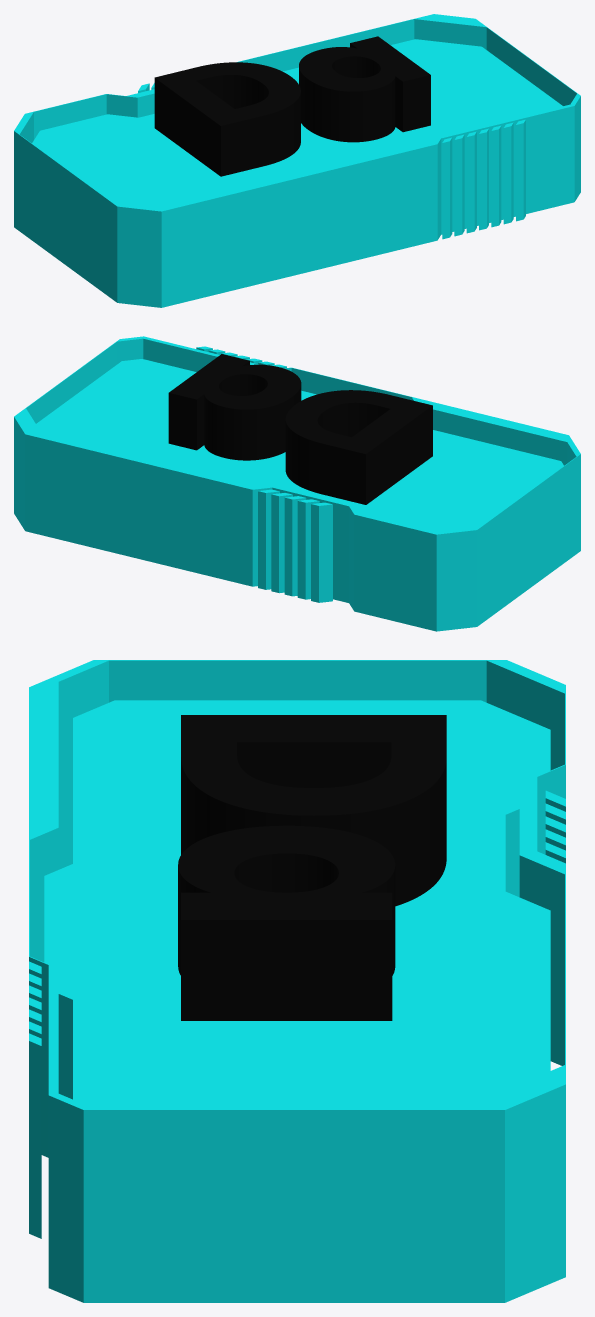
Rendered from 6.HurufKa.glb.
3 views of the same model, one above another, from view 1: azimuth 30°, elevation 25°; view 2: azimuth 150°, elevation 25°; view 3: azimuth 270°, elevation 25° (orthographic). The views are drawn at different scales.
Parts seen in each view (by area): view 1: Curve.104, Curve.098, Curve.112, Curve.113, Curve.106, Curve.109, Curve.105, Curve.107, Curve.110, Curve.108, Curve.111; view 2: Curve.104, Curve.098, Curve.112, Curve.113, Curve.103, Curve.101, Curve.102, Curve.099, Curve.100; view 3: Curve.104, Curve.098, Curve.113, Curve.112, Curve.111.
Part boxes in pixels (x1,y1,x2,y2): Curve.104: [14, 14, 580, 307]; Curve.098: [32, 39, 562, 207]; Curve.112: [154, 62, 300, 176]; Curve.113: [299, 36, 430, 142]; Curve.106: [454, 134, 464, 236]; Curve.109: [491, 125, 501, 227]; Curve.105: [442, 137, 452, 239]; Curve.107: [466, 131, 476, 233]; Curve.110: [503, 122, 513, 224]; Curve.108: [479, 128, 488, 230]; Curve.111: [516, 119, 525, 221]; Curve.104: [14, 336, 580, 631]; Curve.098: [36, 359, 563, 532]; Curve.112: [285, 390, 432, 504]; Curve.113: [168, 354, 301, 460]; Curve.103: [311, 502, 332, 602]; Curve.101: [284, 496, 306, 596]; Curve.102: [297, 499, 319, 599]; Curve.099: [258, 489, 279, 589]; Curve.100: [271, 493, 292, 593]; Curve.104: [29, 660, 565, 1302]; Curve.098: [44, 700, 550, 1109]; Curve.113: [178, 825, 395, 1020]; Curve.112: [181, 715, 446, 906]; Curve.111: [29, 1033, 41, 1238].
Bounding box in the file's own units: 0.2966 × 0.08 × 0.1496.
